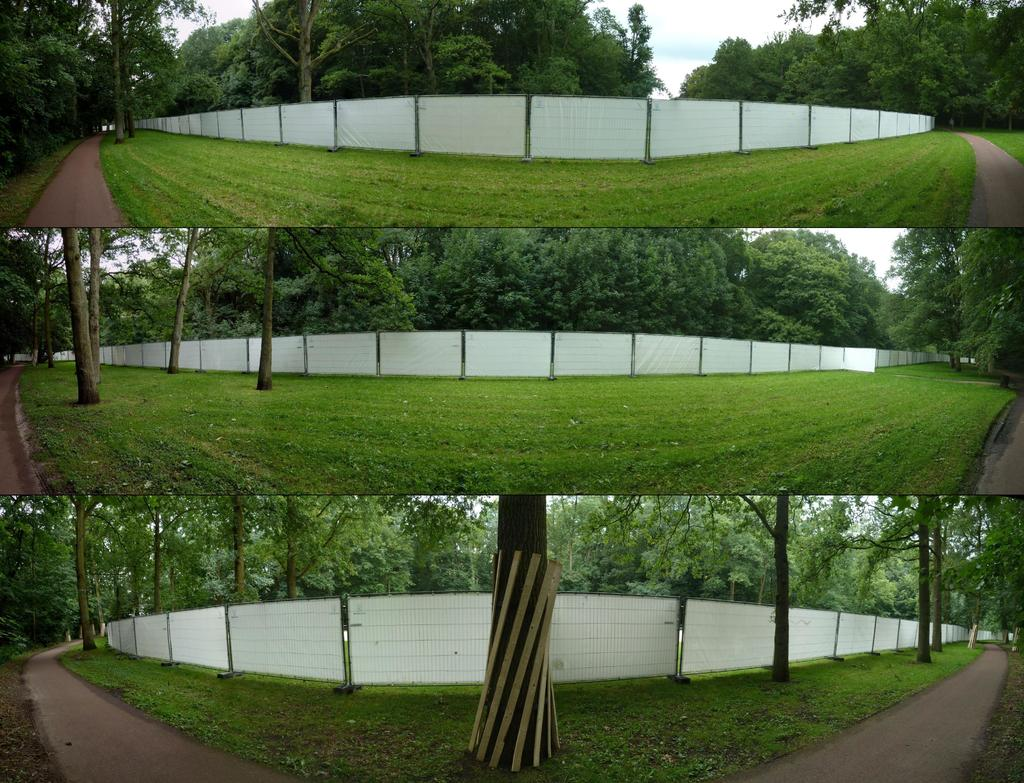Tree: (0, 495, 1024, 685), (0, 229, 1024, 404), (0, 0, 664, 184), (671, 0, 1024, 132), (467, 495, 561, 773)
